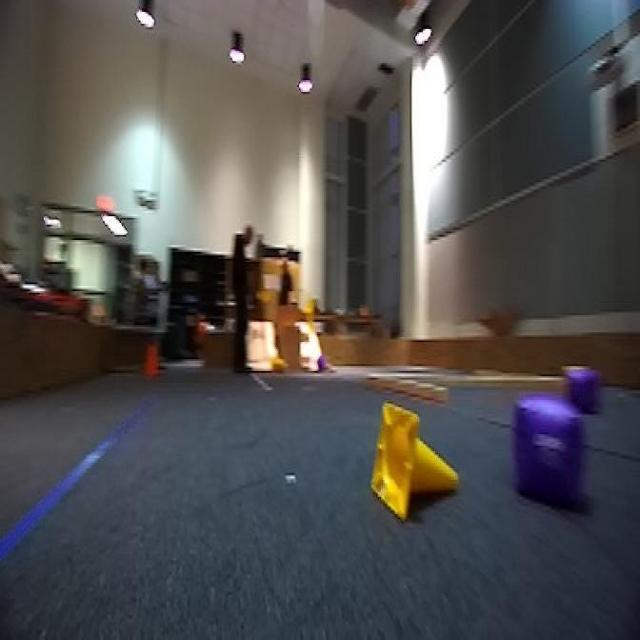frc_cone: (372, 405, 460, 519), (268, 352, 286, 377)
frc_cube: (510, 395, 583, 504), (561, 358, 600, 416), (314, 356, 330, 373)
